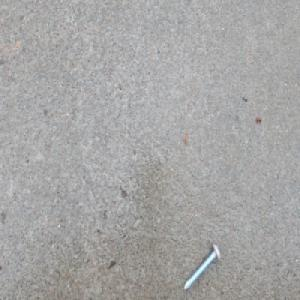Nail: (182, 242, 221, 293)
